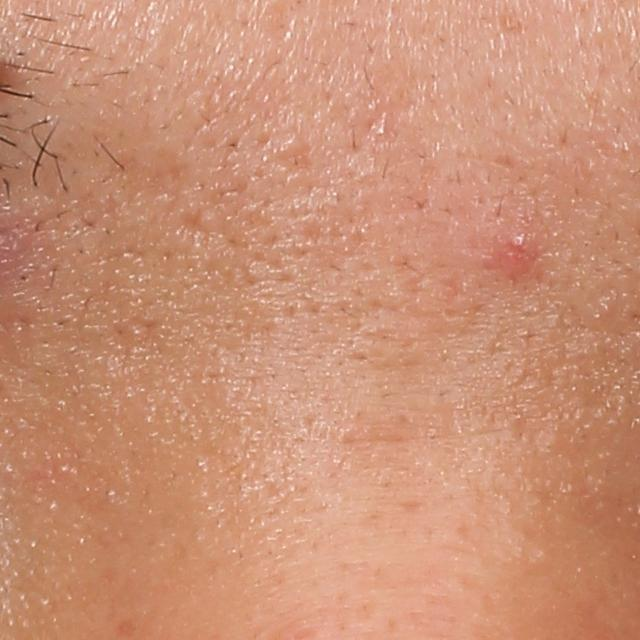papule: (502, 233, 532, 271)
